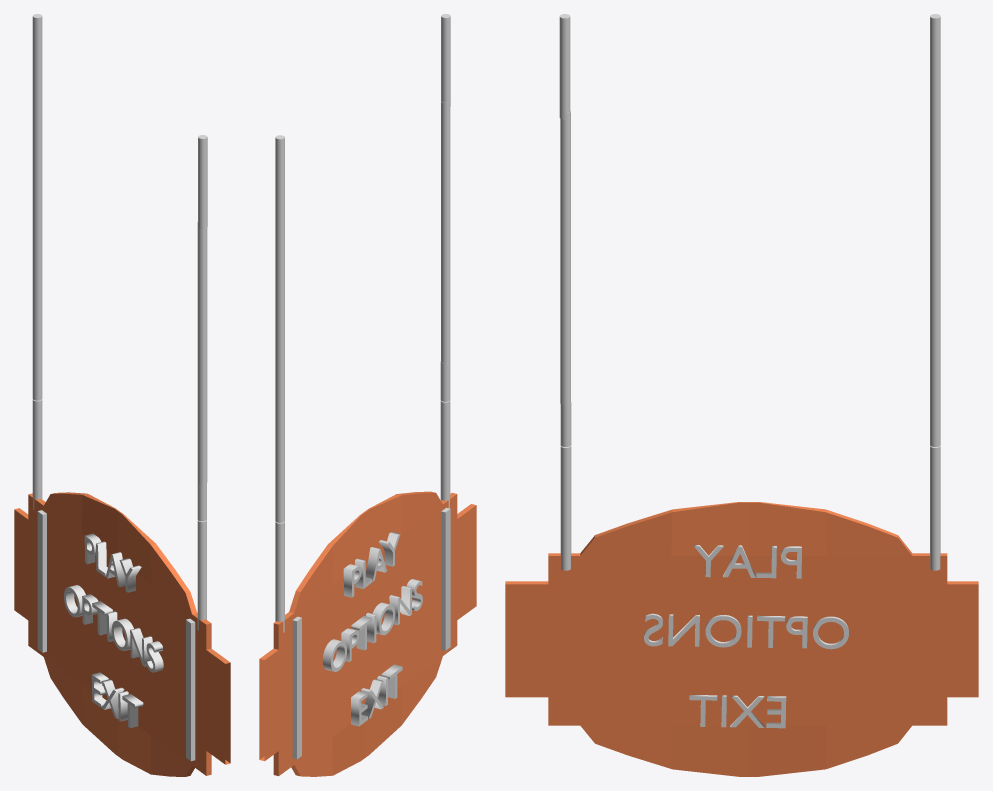
File: home_sign_menu.fbx
3 views of the same model, side by side, from view 1: azimuth 30°, elevation 25°; view 2: azimuth 150°, elevation 25°; view 3: azimuth 270°, elevation 25° (orthographic). The views are drawn at different scales.
Parts seen in each view (by area): view 1: Cube, Text.001, Text, Text.002, Cube.002, Cube.001, Cylinder.006, Cylinder.005, Cylinder.004, Cylinder, Cylinder.001, Cylinder.007 (+6 smaller); view 2: Cube, Text.001, Text, Text.002, Cube.001, Cube.002, Cylinder, Cylinder.005, Cylinder.006, Cylinder.007, Cylinder.002, Cylinder.003 (+6 smaller); view 3: Cube, Text.001, Text.002, Text, Cylinder.007, Cylinder.006, Cylinder, Cylinder.004, Cylinder.001, Cylinder.005, Cylinder.002, Cylinder.003.
Part boxes in pixels (box(x1,y1,x2,y2)): Cube: box(14, 492, 230, 776); Text.001: box(64, 585, 163, 672); Text: box(84, 533, 141, 592); Text.002: box(91, 672, 143, 728); Cube.002: box(186, 618, 195, 761); Cube.001: box(37, 510, 46, 652); Cylinder.006: box(32, 14, 42, 108); Cylinder.005: box(197, 392, 207, 484); Cylinder.004: box(197, 307, 207, 399); Cylinder: box(32, 272, 42, 363); Cylinder.001: box(32, 187, 42, 278); Cylinder.007: box(198, 135, 207, 229); Cube: box(259, 491, 476, 776); Text.001: box(322, 579, 422, 671); Text: box(343, 532, 400, 597); Text.002: box(351, 664, 402, 726); Cube.001: box(292, 616, 301, 759); Cube.002: box(441, 507, 450, 650); Cylinder: box(275, 393, 284, 485); Cylinder.005: box(441, 273, 450, 363); Cylinder.006: box(275, 135, 284, 229); Cylinder.007: box(441, 14, 450, 106); Cylinder.002: box(275, 222, 284, 314); Cylinder.003: box(441, 101, 450, 192); Cube: box(505, 502, 978, 776); Text.001: box(644, 613, 848, 649); Text.002: box(689, 695, 786, 728); Text: box(694, 545, 801, 578); Cylinder.007: box(559, 14, 570, 119); Cylinder.006: box(930, 14, 940, 119); Cylinder: box(930, 303, 940, 405); Cylinder.004: box(560, 207, 570, 310); Cylinder.001: box(930, 207, 940, 310); Cylinder.005: box(560, 303, 570, 405); Cylinder.002: box(930, 112, 940, 214); Cylinder.003: box(560, 110, 570, 214).
Bounding box in the file's own units: 66.52 × 2577 × 1452.
